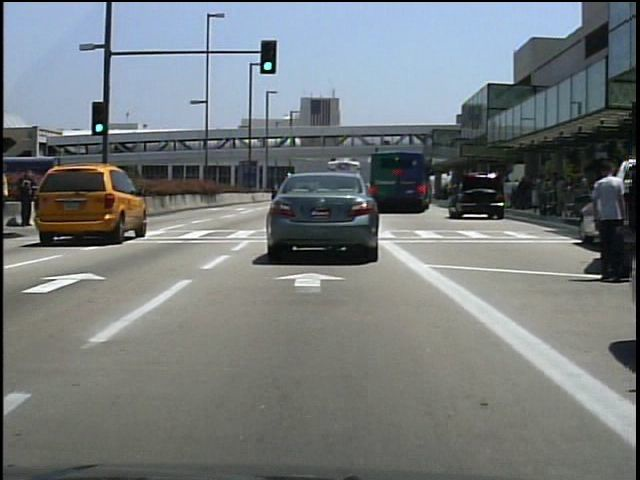person: (587, 154, 625, 287), (17, 165, 40, 229), (5, 165, 17, 232)
